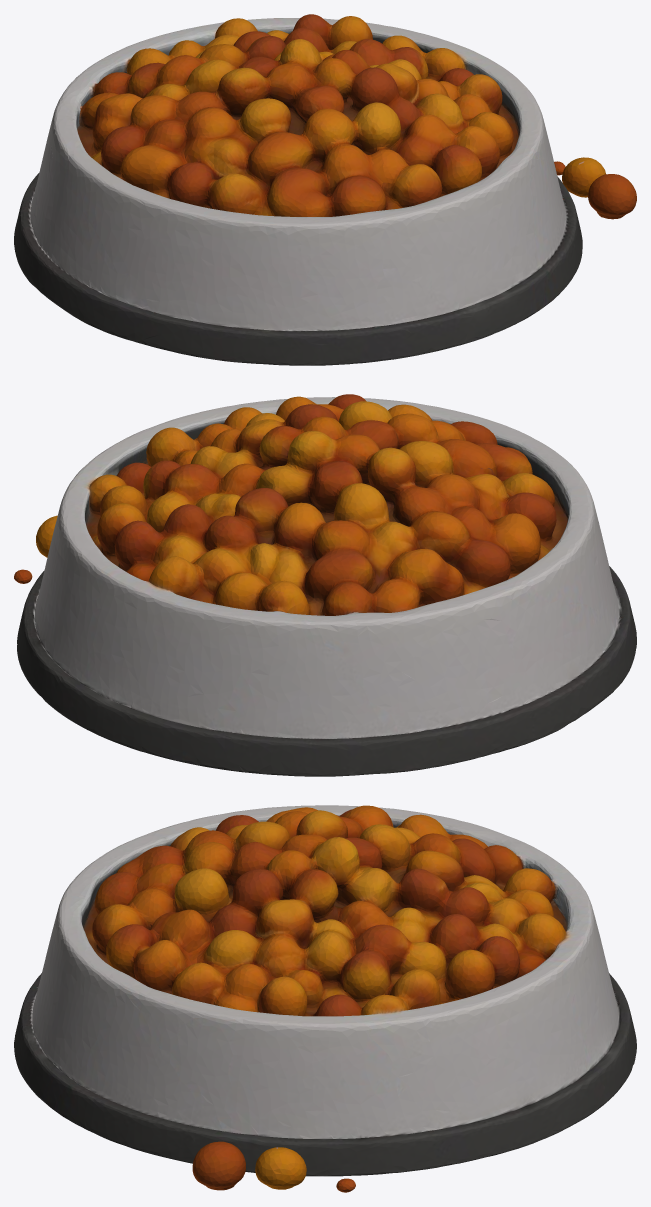
The model's file is bowl_food_2.glb.
3 views of the same model, one above another, from view 1: azimuth 30°, elevation 25°; view 2: azimuth 150°, elevation 25°; view 3: azimuth 270°, elevation 25° (orthographic). The views are drawn at different scales.
Parts seen in each view (by area): view 1: tripo_node_65d34c88-8846-4aff-aafc-41a2b40eecae; view 2: tripo_node_65d34c88-8846-4aff-aafc-41a2b40eecae; view 3: tripo_node_65d34c88-8846-4aff-aafc-41a2b40eecae.
Boxes of the visible parts, x1,y1,x2,y2 form: tripo_node_65d34c88-8846-4aff-aafc-41a2b40eecae: (14,14,636,365); tripo_node_65d34c88-8846-4aff-aafc-41a2b40eecae: (14,394,636,776); tripo_node_65d34c88-8846-4aff-aafc-41a2b40eecae: (14,805,636,1192).
Size of the model in its own units: 0.9987 by 0.3567 by 0.9427.
1 material, 1 textured.
